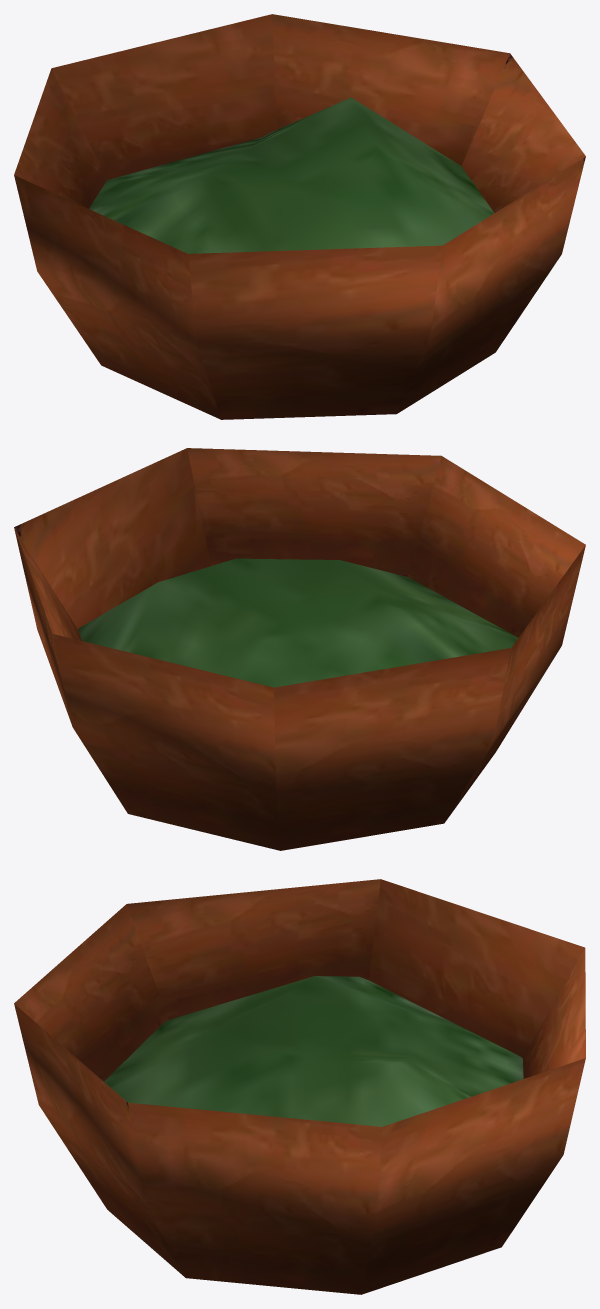
The model's file is ITFO_POORSOUP.glb.
3 renders of one model, top to bottom at view 1: azimuth 30°, elevation 25°; view 2: azimuth 150°, elevation 25°; view 3: azimuth 270°, elevation 25°, orthographic. The views are drawn at different scales.
Parts seen in each view (by area): view 1: Mesh; view 2: Mesh; view 3: Mesh.
Boxes of the visible parts, x1,y1,x2,y2 form: Mesh: [14, 14, 585, 419]; Mesh: [14, 448, 585, 850]; Mesh: [14, 879, 585, 1294].
Bounding box in the file's own units: 0.3219 × 0.131 × 0.314.
Materials: 2 (2 with a texture image).
